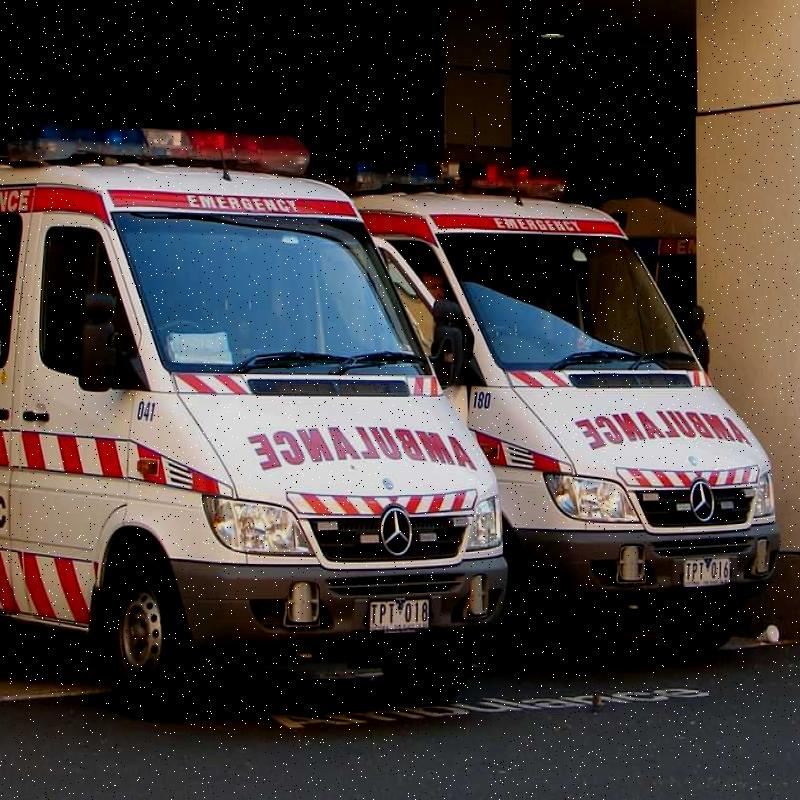AmbulanceSiren: (21, 106, 308, 194), (334, 127, 572, 213)
